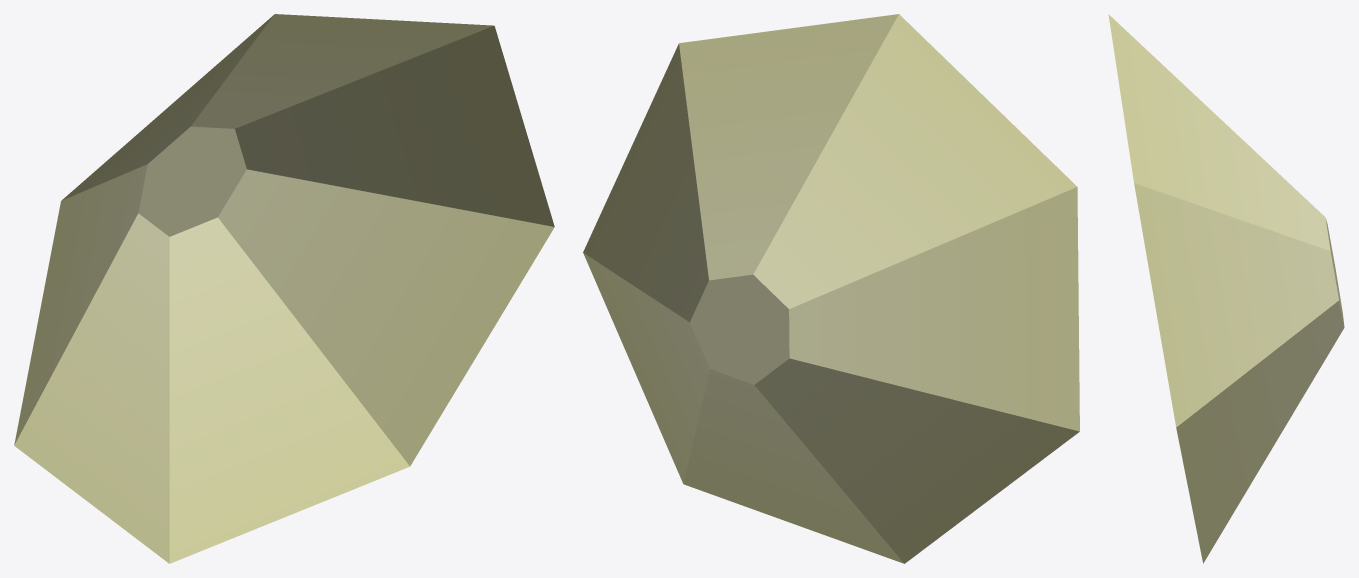
The model's file is IglooStageLight_frame03_0.glb.
The picture shows the model from 3 angles, left to right: view 1: azimuth 30°, elevation 25°; view 2: azimuth 150°, elevation 25°; view 3: azimuth 270°, elevation 25°; orthographic projection. The views are drawn at different scales.
Visible parts, largest first — view 1: IglooStageLight_frame03; view 2: IglooStageLight_frame03; view 3: IglooStageLight_frame03.
Part boxes in pixels (bbox=[...]): IglooStageLight_frame03: bbox=[14, 14, 554, 563]; IglooStageLight_frame03: bbox=[583, 14, 1079, 563]; IglooStageLight_frame03: bbox=[1108, 14, 1344, 563].
Bounding box in the file's own units: 0.659 × 0.6538 × 0.2804.
